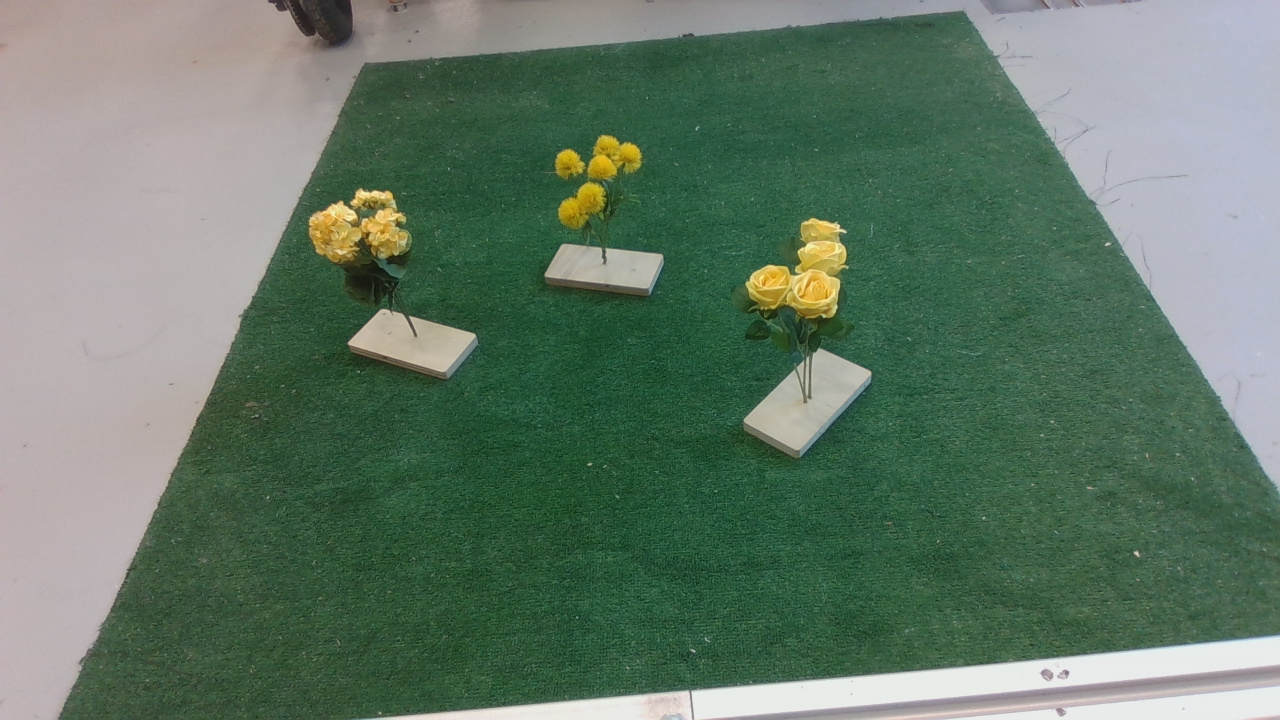dandelion: (549, 137, 661, 244)
geranium: (312, 185, 435, 317)
rose: (743, 214, 864, 367)
